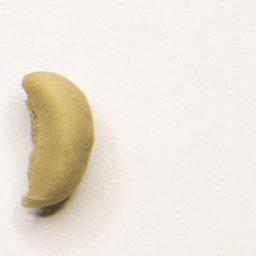defect: (14, 68, 100, 213)
